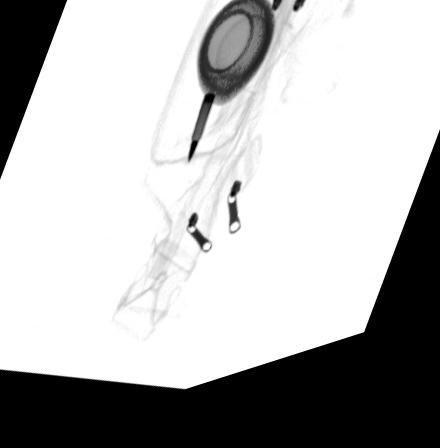Bullet: (186, 104, 216, 177)
